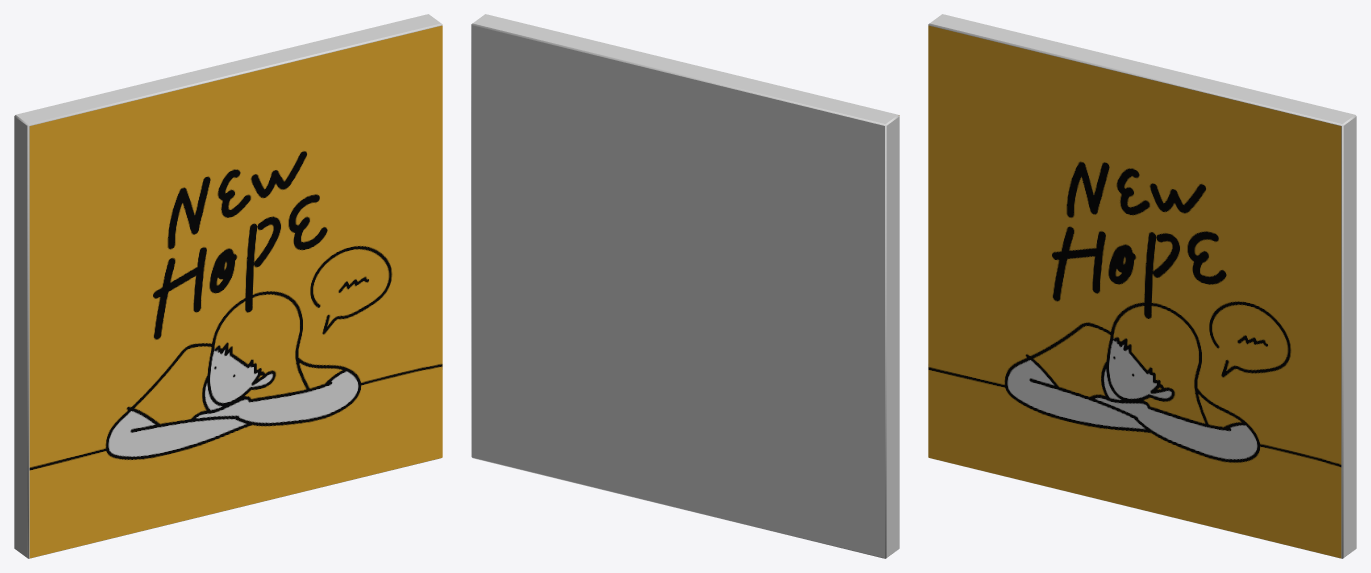
Rendered from room05.glb.
3 renders of one model, left to right at view 1: azimuth 30°, elevation 25°; view 2: azimuth 150°, elevation 25°; view 3: azimuth 330°, elevation 25°, orthographic.
Parts seen in each view (by area): view 1: tex, board; view 2: board; view 3: tex, board.
Boxes of the visible parts, box(x1,y1,x2,y2) form: tex: box(29, 25, 442, 558); board: box(14, 14, 442, 558); board: box(471, 14, 899, 558); tex: box(928, 25, 1341, 558); board: box(928, 14, 1356, 558).
Bounding box in the file's own units: 0.335 × 0.335 × 0.0205.
2 materials, 1 textured.
